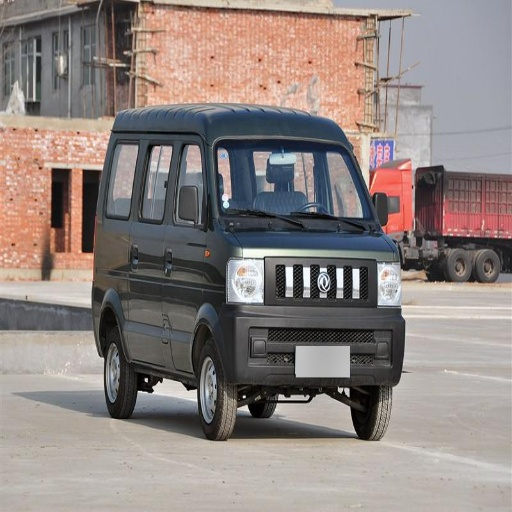front_bumper: (239, 253, 402, 386)
front_glass: (236, 140, 373, 230)
hood: (281, 220, 396, 261)
trunk: (115, 222, 293, 370)
